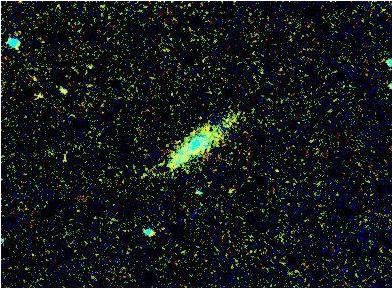star: (49, 76, 79, 106)
